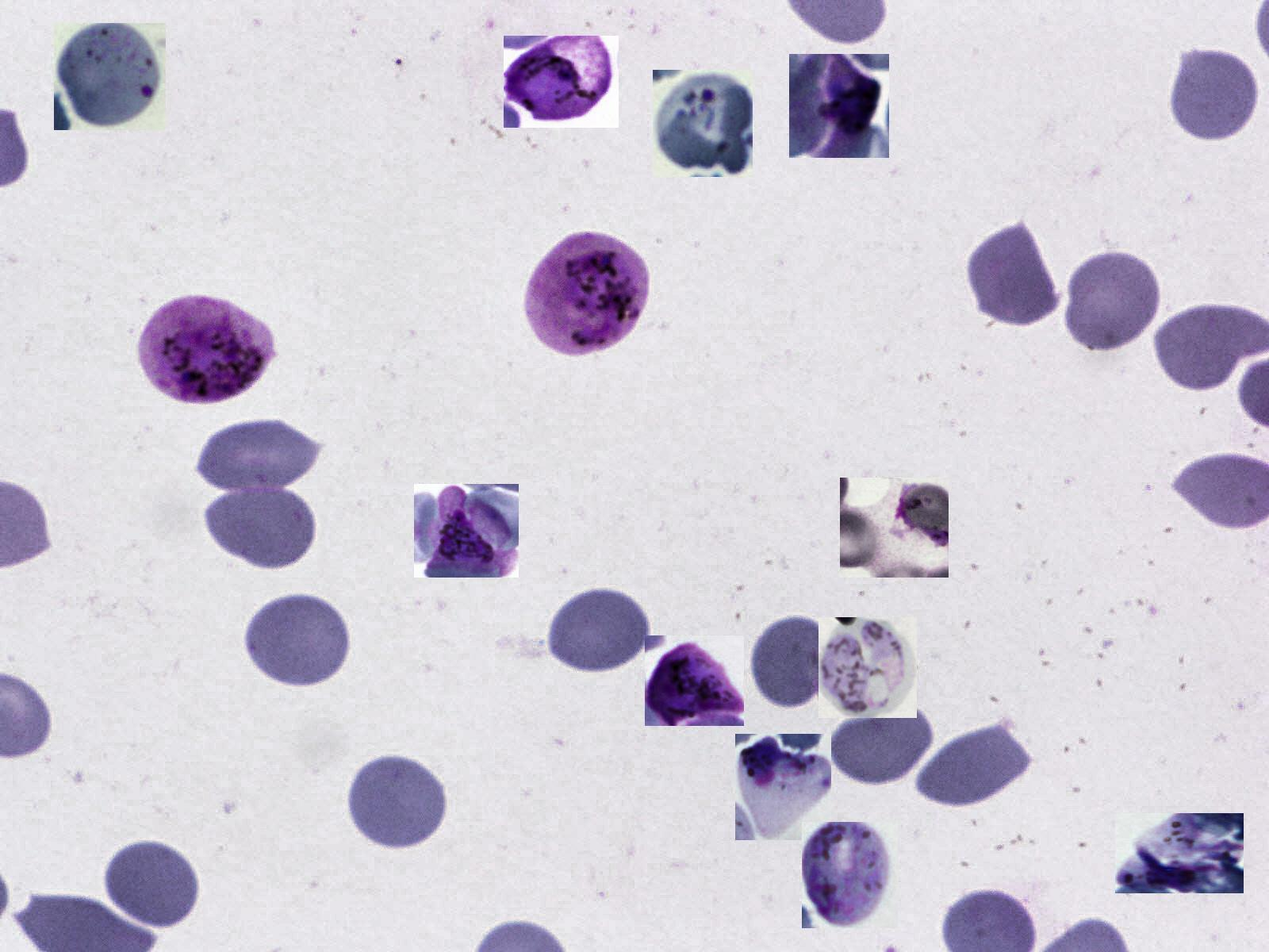Infected: (523, 230, 651, 362), (134, 291, 278, 405), (54, 24, 166, 130), (840, 478, 949, 578), (654, 70, 753, 177), (504, 36, 619, 128), (789, 54, 889, 158), (1115, 813, 1244, 893), (802, 822, 898, 928), (735, 735, 831, 840), (819, 618, 917, 719), (414, 484, 519, 578), (645, 635, 744, 726)
Uninfected: (970, 213, 1060, 332), (243, 590, 351, 689), (345, 748, 449, 850), (917, 718, 1033, 807), (1064, 247, 1163, 351), (1167, 40, 1262, 145), (189, 416, 315, 493), (98, 834, 199, 930), (545, 584, 653, 673), (825, 703, 933, 791), (204, 487, 318, 570), (746, 609, 835, 714)
